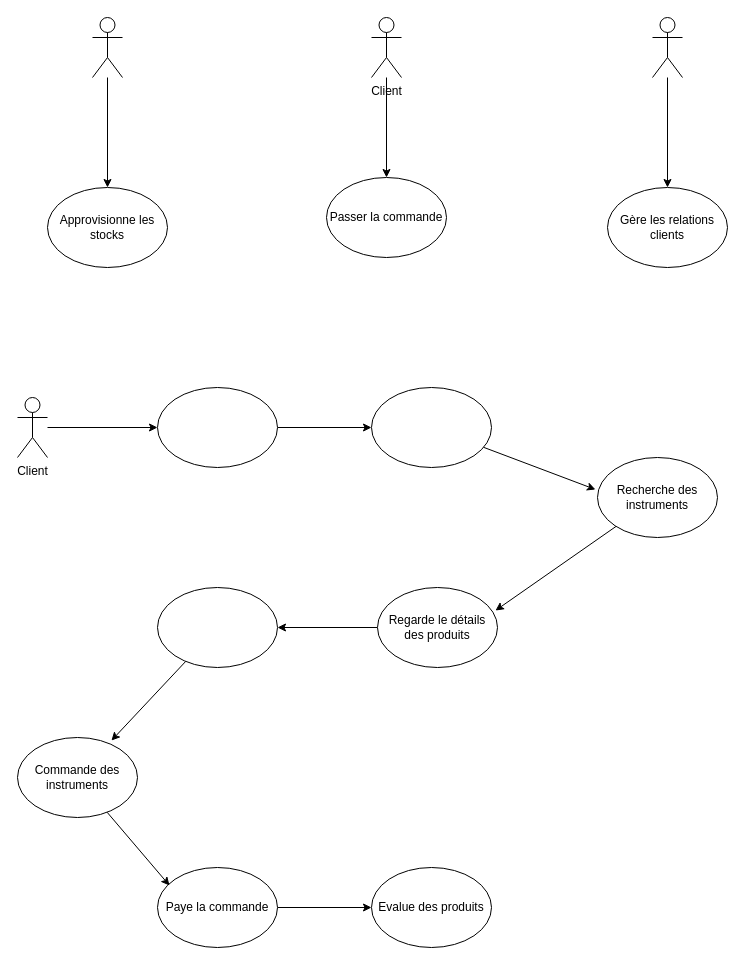
This 745x965 diagram has some shape labels left out. Each missing label, with the box of its shape:
Ajoute au panier des instruments: (156, 586, 278, 668)
Commercial: (652, 16, 682, 78)
Fournisseur: (92, 16, 122, 78)
Regarde les catégories/sous-catégories: (370, 386, 492, 468)
S'inscrit sur le site: (156, 386, 278, 468)
